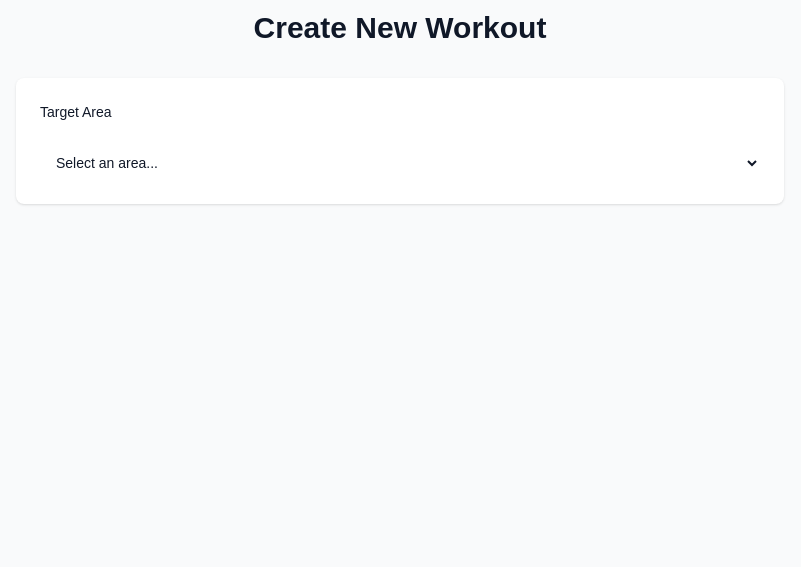
Test: CreateWorkout Page › allows adding an exercise
Select "Push" in the dropdown labelled "Target Area" at (400, 163), box [40,146,760,180]
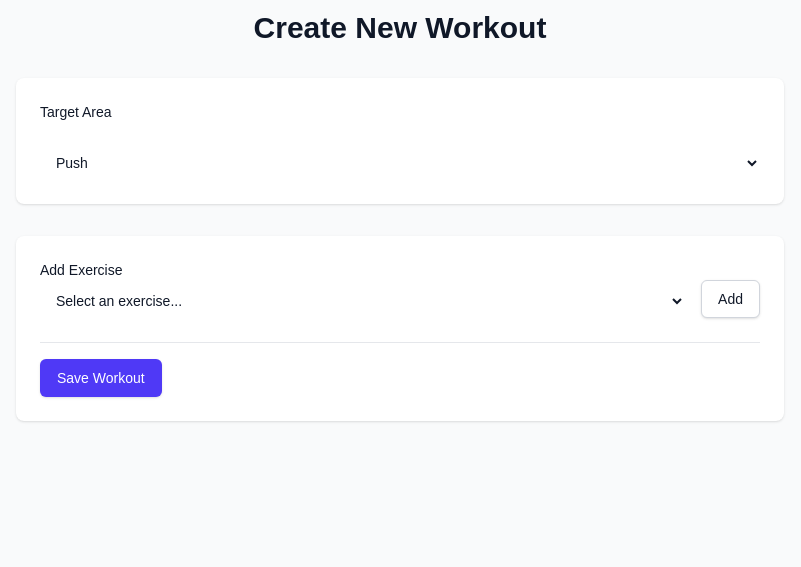
Select "Bench Press" in the dropdown labelled "Add Exercise" at (363, 301), box [40,284,685,318]
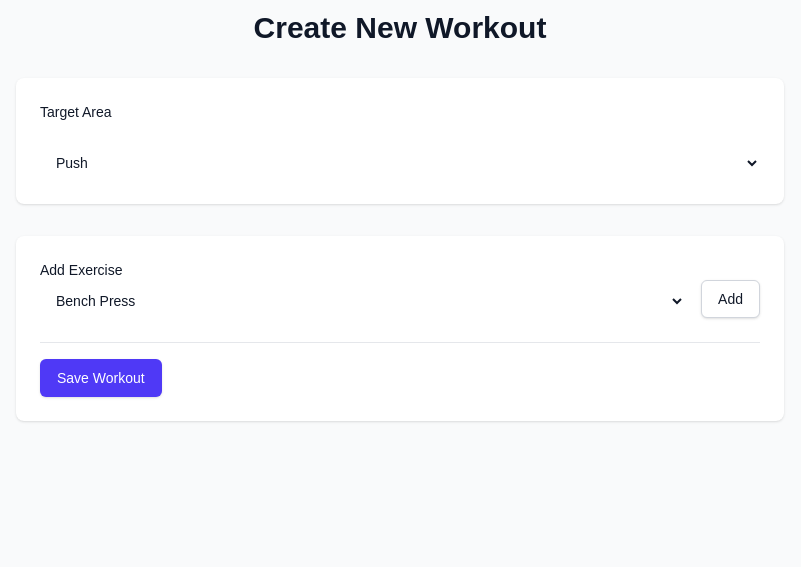
Click the button "Add".
click(731, 299)  # box [701,280,760,318]
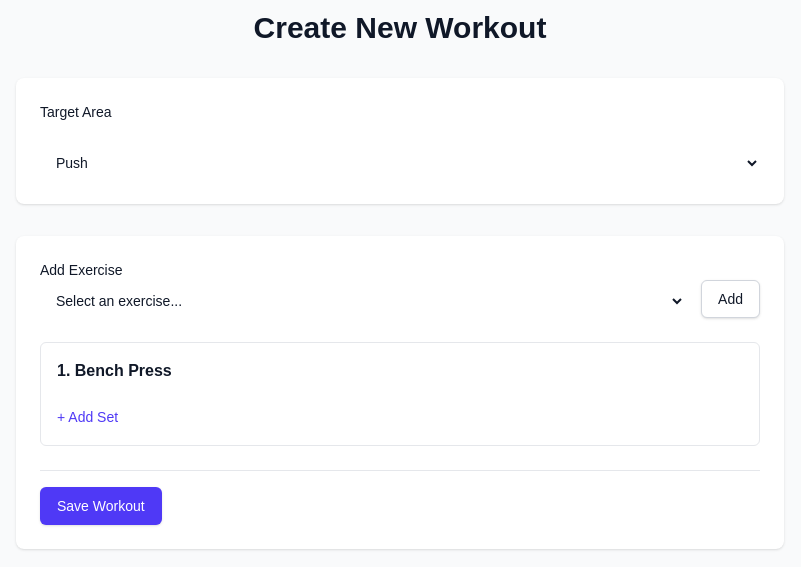
Expected: the heading "1. Bench Press" is shown, [57,359,172,383]
